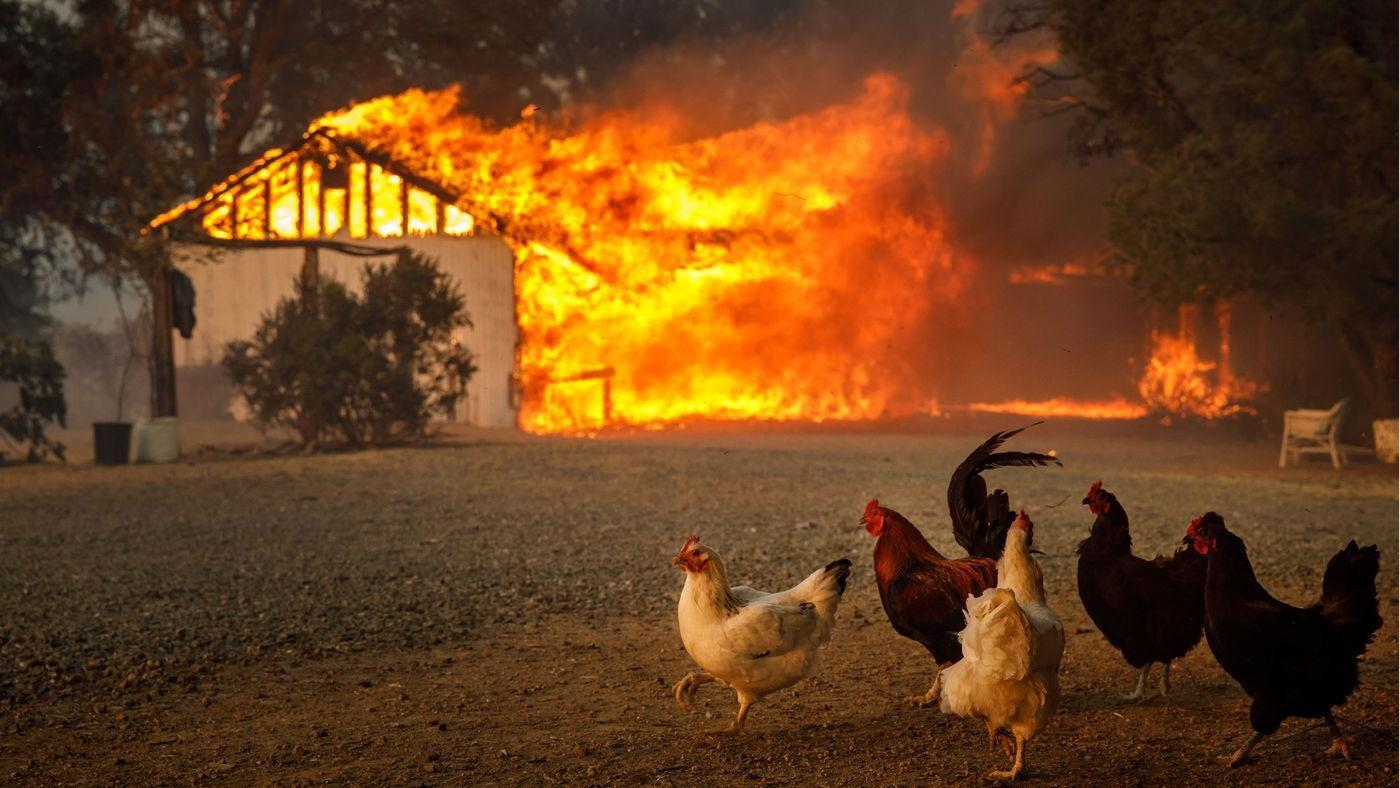Fire: (117, 30, 956, 442), (960, 303, 1263, 430)
